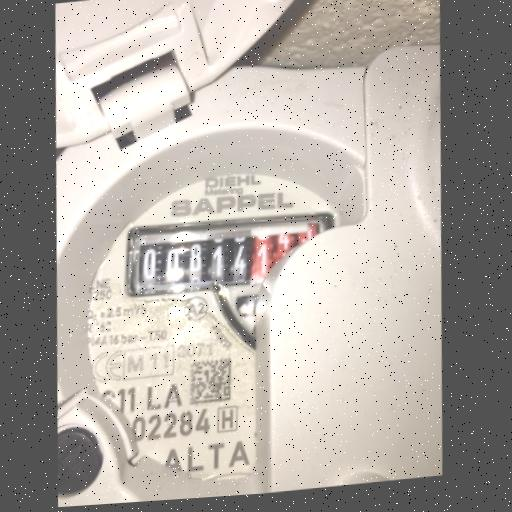0: (136, 240, 165, 288), (161, 240, 188, 285)
1: (248, 233, 277, 282), (203, 236, 232, 284)
4: (226, 235, 255, 283), (273, 229, 297, 265)
8: (184, 239, 208, 284)
border_water_meter_number: (130, 212, 327, 298)
